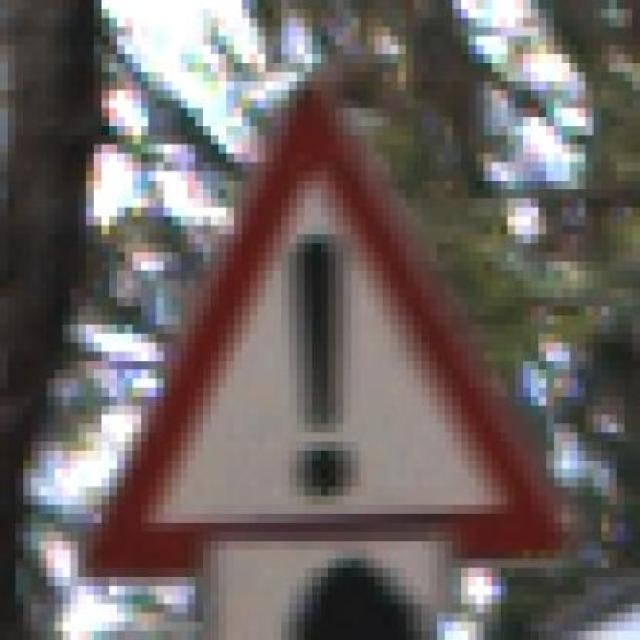Attention Please-: (54, 89, 600, 586)
